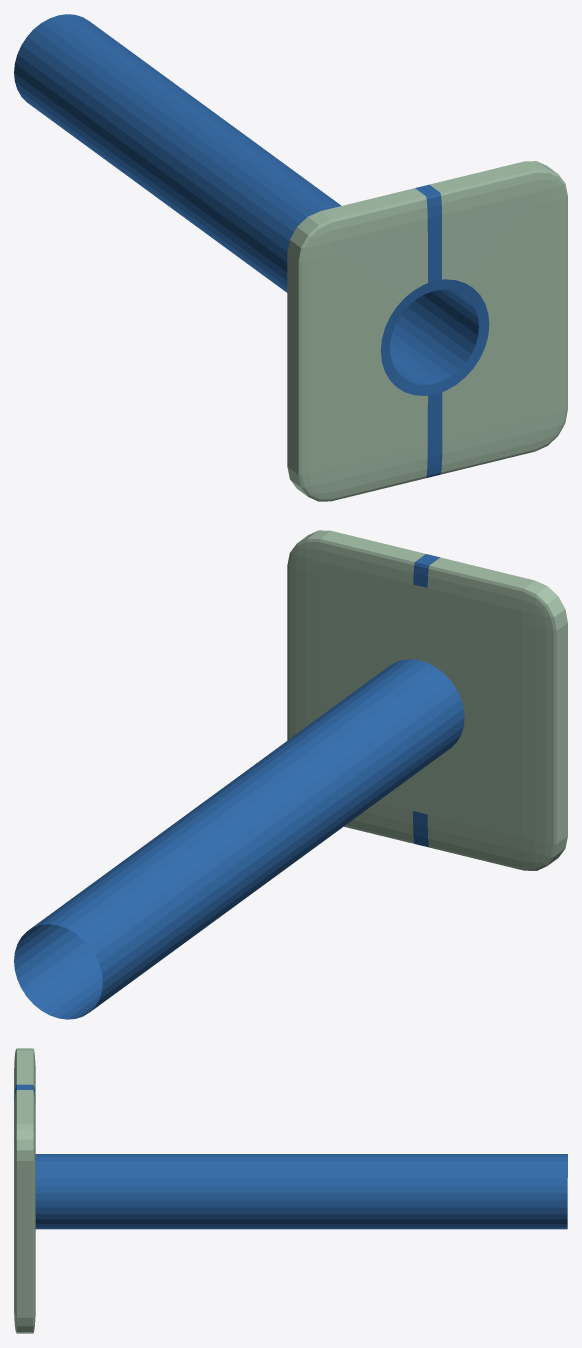
3 renders of one model, top to bottom at view 1: azimuth 30°, elevation 25°; view 2: azimuth 150°, elevation 25°; view 3: azimuth 270°, elevation 25°, orthographic. The views are drawn at different scales.
Visible parts, largest first — view 1: Cube.004; view 2: Cube.004; view 3: Cube.004.
Boxes of the visible parts, x1,y1,x2,y2 form: Cube.004: (14, 14, 567, 501); Cube.004: (14, 530, 567, 1019); Cube.004: (14, 1048, 567, 1333).
Size of the model in its own units: 1272 by 1272 by 3081.
